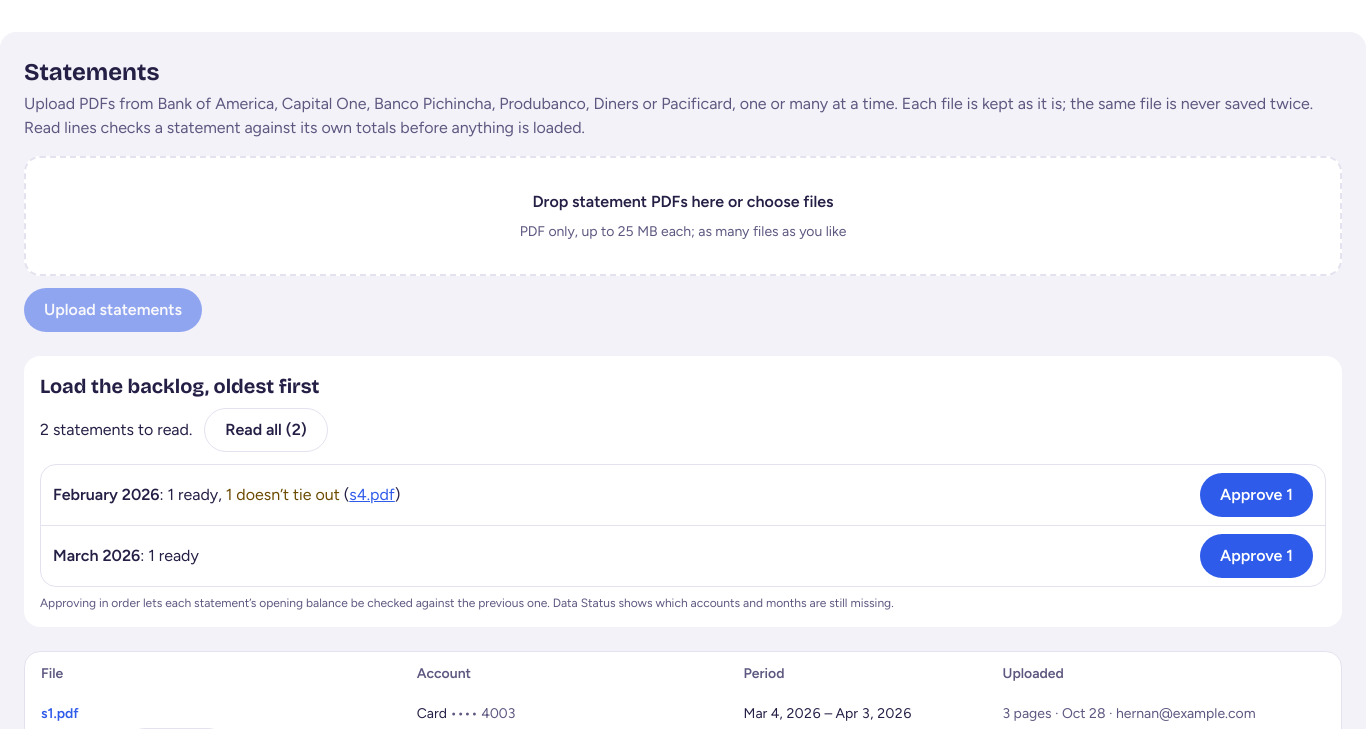
backlog › reads all, oldest first, and approves a month
Click the button "Read all (2)" at (266, 430), box 204,408 -> 328,452
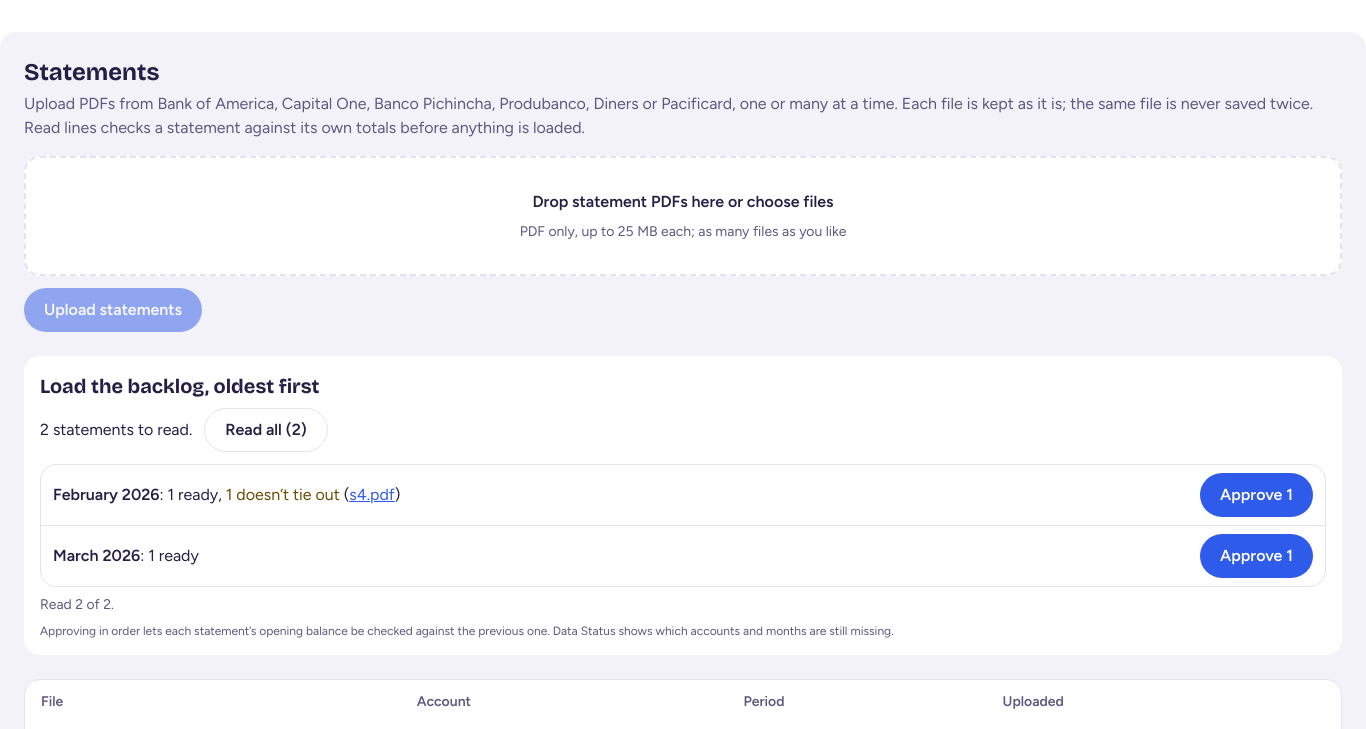
Expected: the list named "Waiting for approval" shows "February 2026: 1 ready, 1 doesn’t tie out (s4.pdf)", 40,464 -> 1326,587
Expected: the text "Read 2 of 2." is shown, 40,596 -> 114,613
Click the button "Approve 1" in the row of "February 2026" at (1257, 495), box 1200,473 -> 1313,517
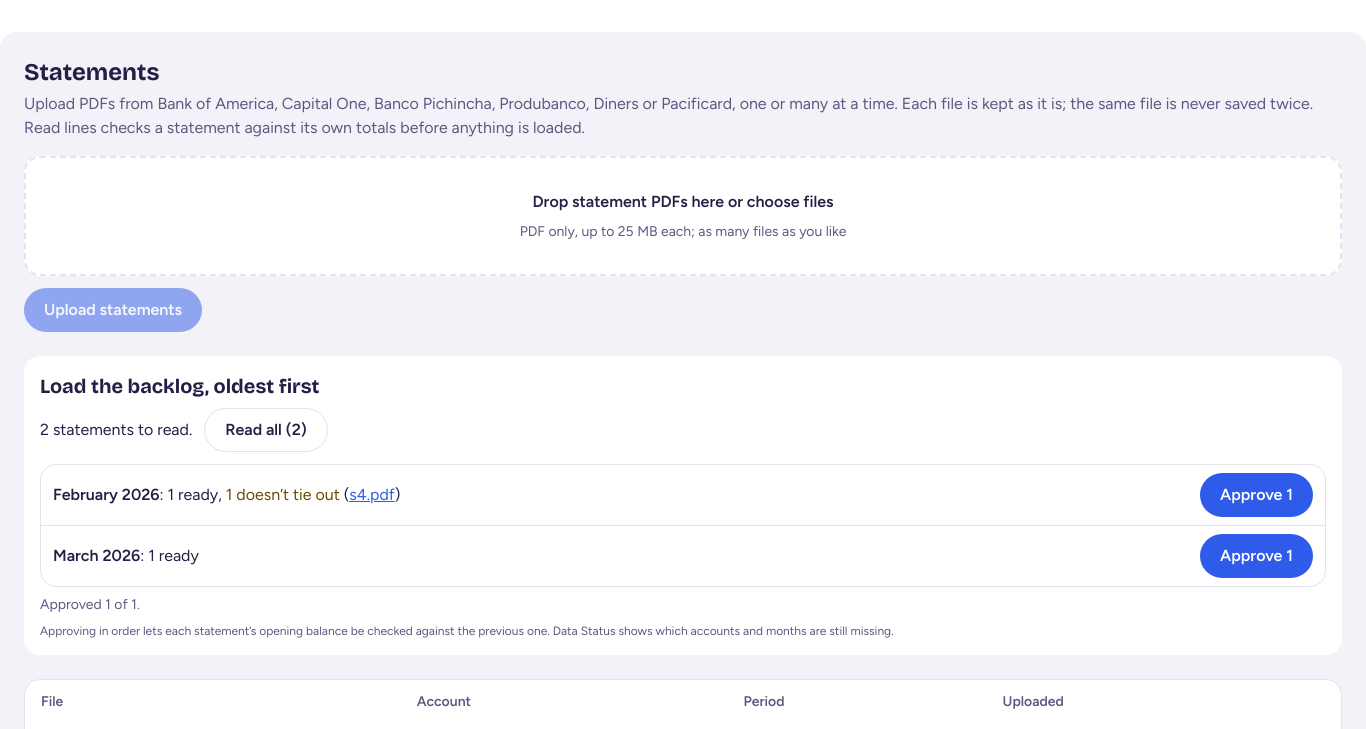
Expected: the text "Approved 1 of 1." is shown, 40,596 -> 140,613
